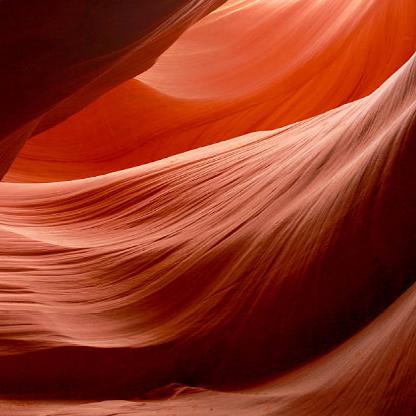Sedimentary_Sandstone: (10, 7, 415, 415)
